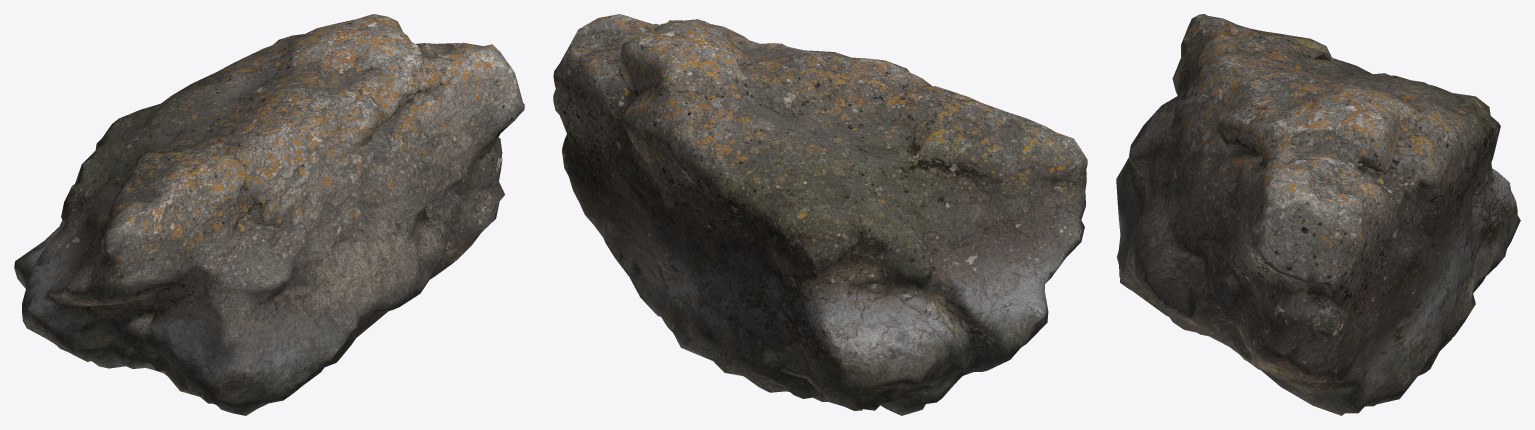
Rendered from SM_wfipacrbw_tier_2.gltf.
The picture shows the model from 3 angles, left to right: view 1: azimuth 30°, elevation 25°; view 2: azimuth 150°, elevation 25°; view 3: azimuth 270°, elevation 25°; orthographic projection. The views are drawn at different scales.
Parts seen in each view (by area): view 1: SM_wfipacrbw; view 2: SM_wfipacrbw; view 3: SM_wfipacrbw.
Boxes of the visible parts, bbox=[...] form: SM_wfipacrbw: bbox=[14, 14, 524, 415]; SM_wfipacrbw: bbox=[553, 14, 1087, 415]; SM_wfipacrbw: bbox=[1116, 14, 1520, 415].
Bounding box in the file's own units: 2.54 × 1.48 × 1.69.
Materials: 1 (1 with a texture image).
